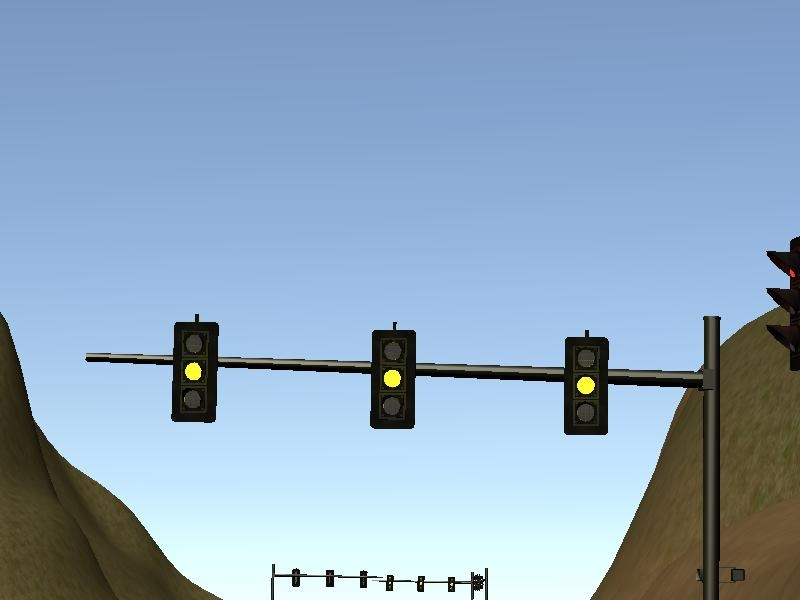YELLOW: (170, 319, 219, 424), (366, 327, 415, 432), (561, 334, 610, 439)
